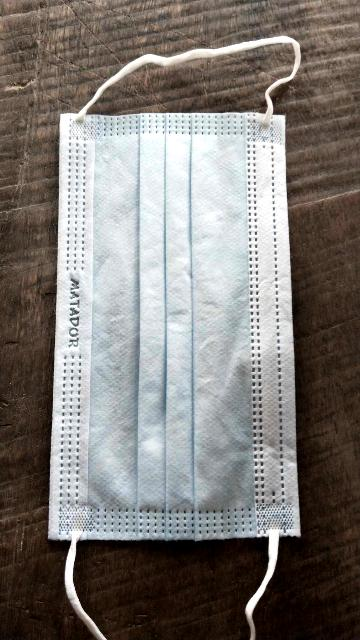mask: (42, 2, 325, 640)
